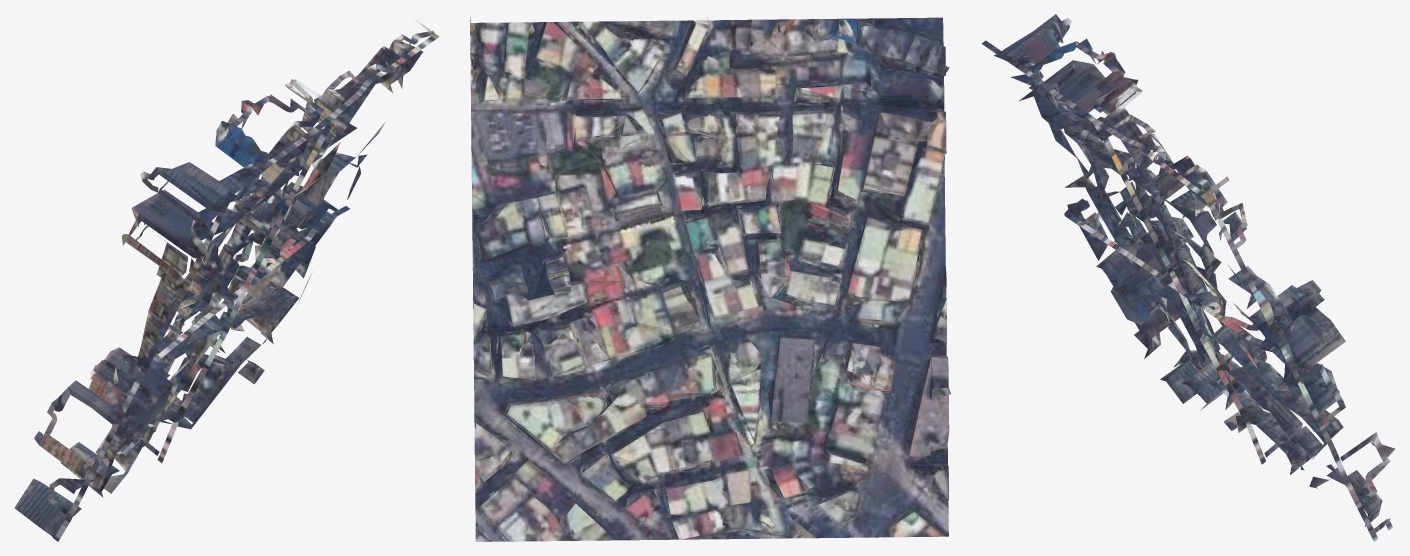
3 renders of one model, left to right at view 1: azimuth 30°, elevation 25°; view 2: azimuth 150°, elevation 25°; view 3: azimuth 270°, elevation 25°, orthographic. The views are drawn at different scales.
Bounding box in the file's own units: 320 × 296 × 268.
Materials: 1 (1 with a texture image).
